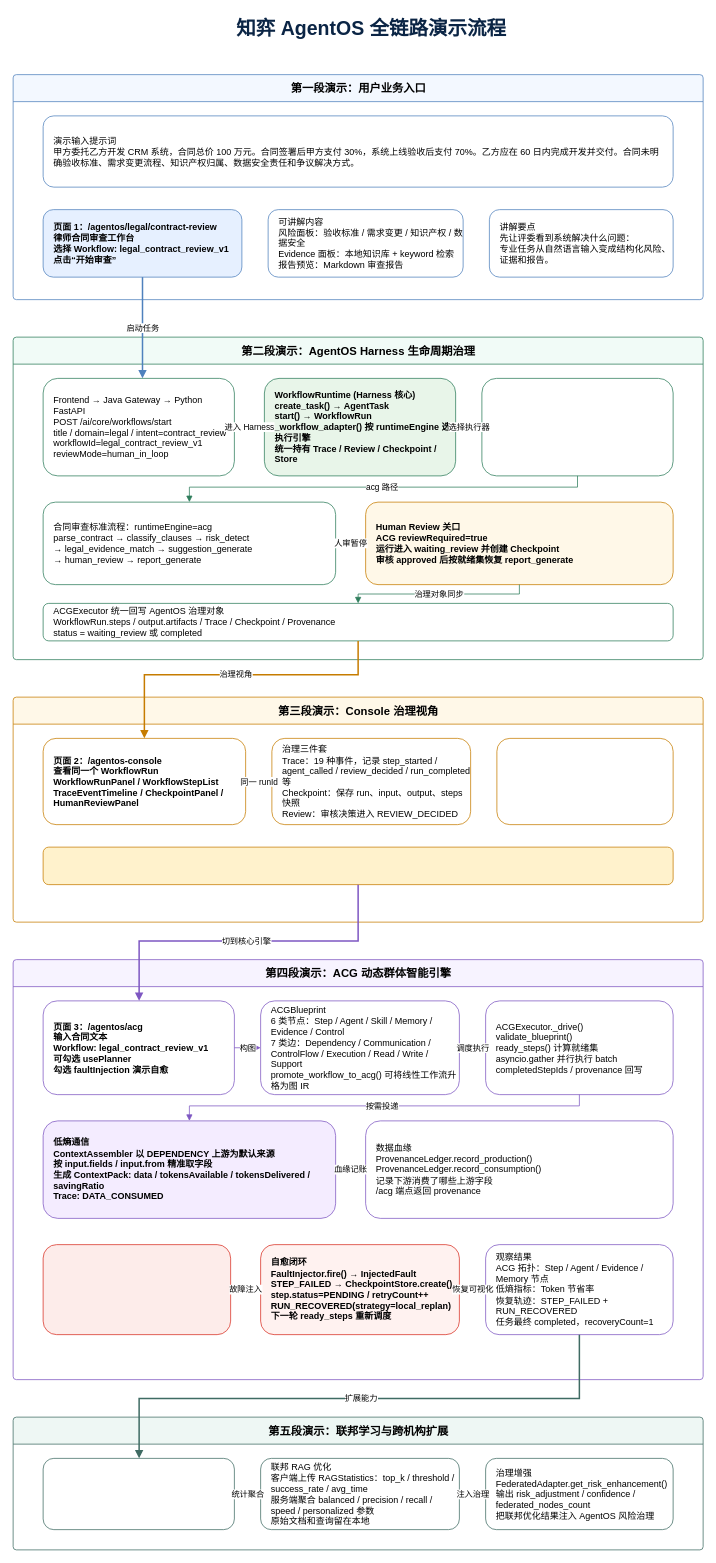
The diagram is 716 pixels wide and 1563 high, and some of its shapes have lost their labels. The shapes that lost their labels are listed below. From the top down, each one's centre as x and y in pixels, then its label:
the point at 577,427: ExecutionAdapter 双执行路径 native：线性 YAML 流程 acg：Core Native ACG 就绪集调度 两者共享治理对象
the point at 584,781: 讲解要点 AgentOS 的价值不是只给答案， 而是让专业任务有运行状态、审核点、恢复点和可导出的黑匣子记录。
the point at 357,865: 答辩提示：合同审查页展示业务交付，Console 展示 Harness 工程治理；两者指向同一个 runId。
the point at 136,1289: ACG 自愈演示输入 勾选：注入故障演示自愈 节点：risk_detect 故障类型：模型超时 timeout max_triggers=1
the point at 138,1494: 页面 4：/federated-learning 联邦网络拓扑 / 训练曲线 / 模型聚合 / 隐私保护 用于展示跨机构协作能力
